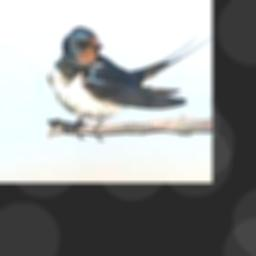Swallow: (49, 27, 212, 138)
